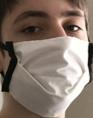with_mask: (2, 2, 93, 118)
